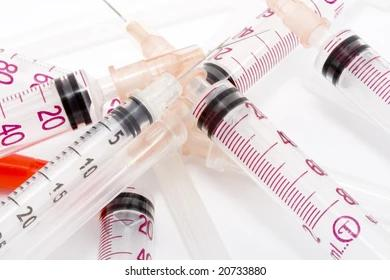Syringe: (185, 78, 389, 259), (0, 73, 181, 248), (0, 99, 191, 258), (0, 46, 203, 155), (267, 0, 389, 131), (203, 9, 298, 92), (98, 187, 154, 259), (325, 167, 389, 227)
